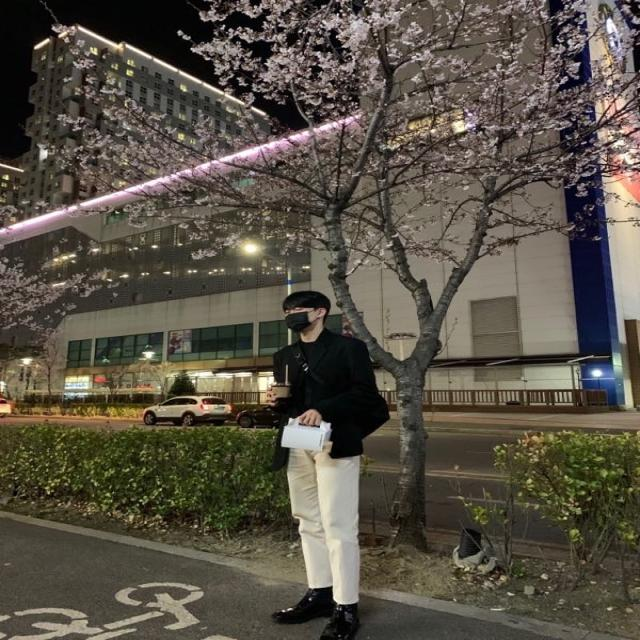blazer: (274, 333, 386, 457)
cottonpants: (282, 434, 362, 607)
